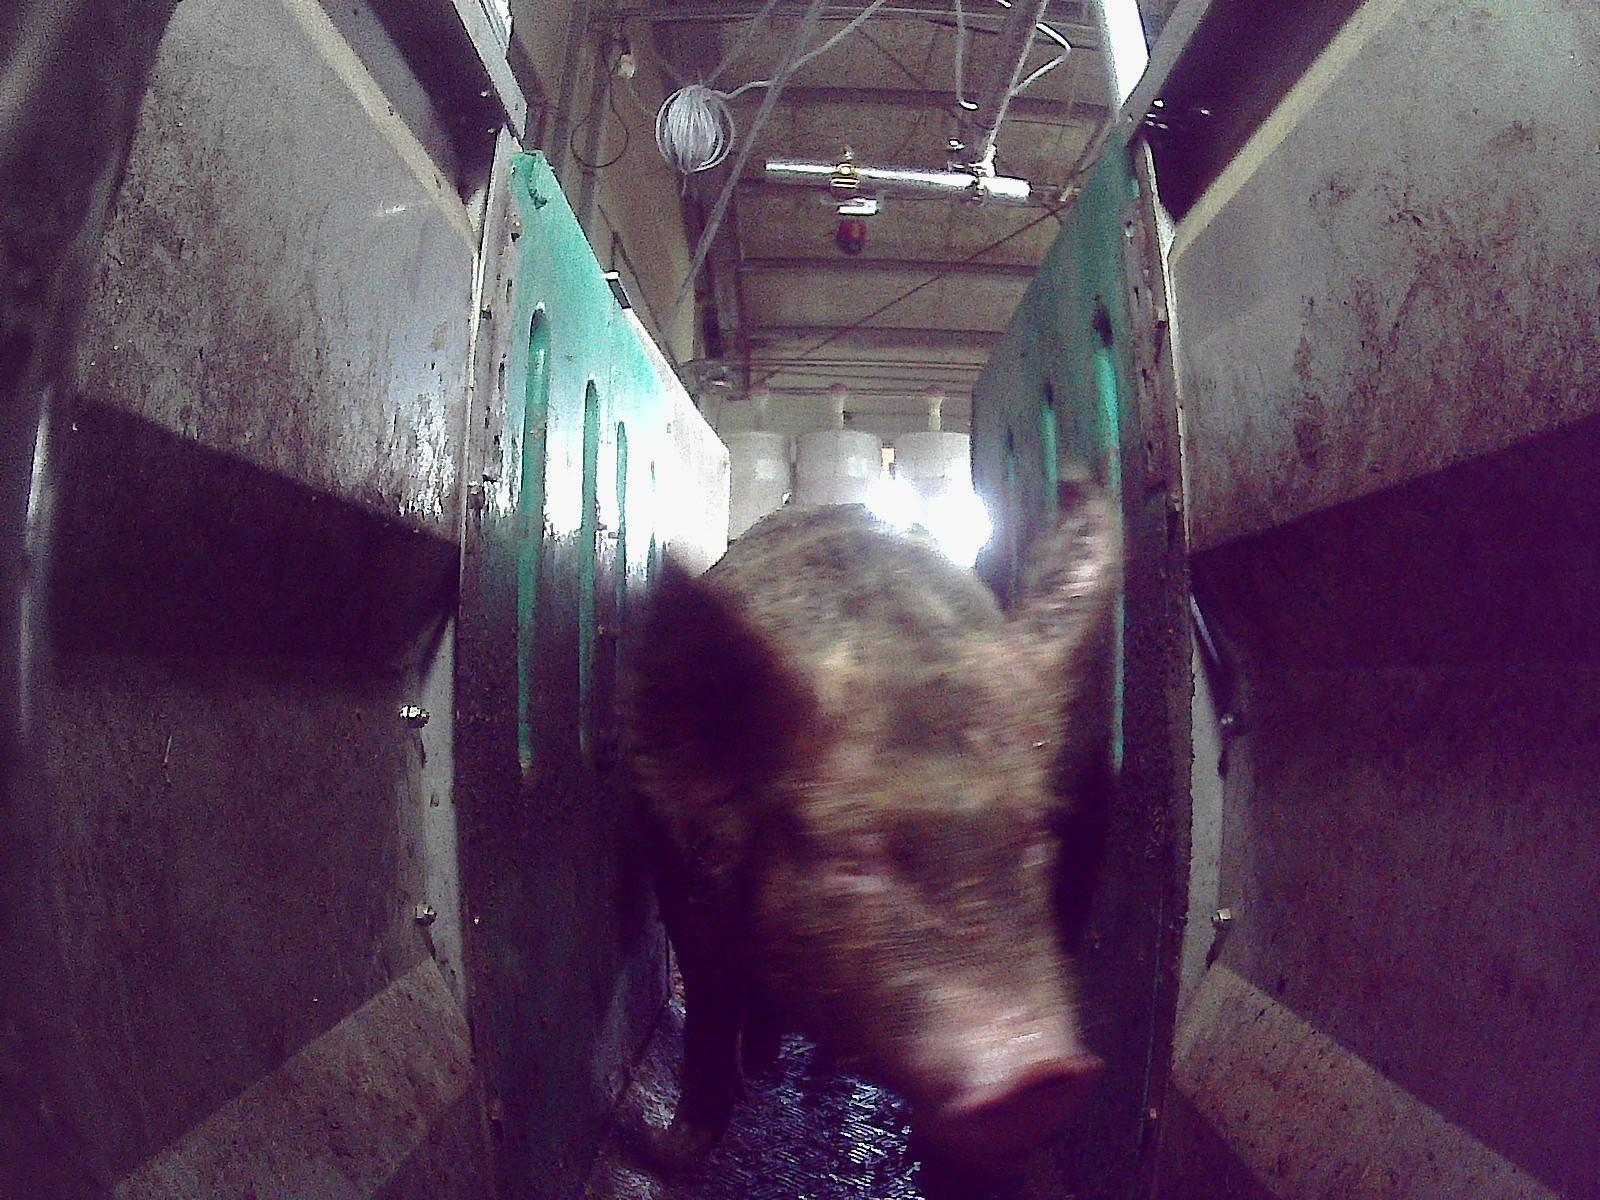Face: (695, 585, 1102, 1159)
